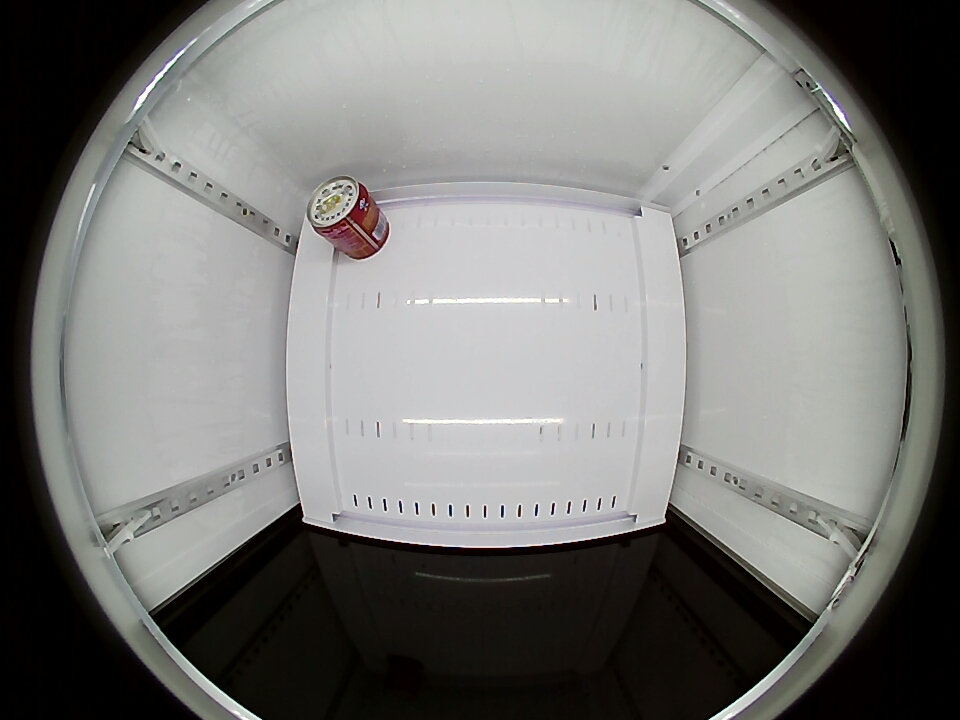wangzainiunai: (307, 175, 378, 246)
